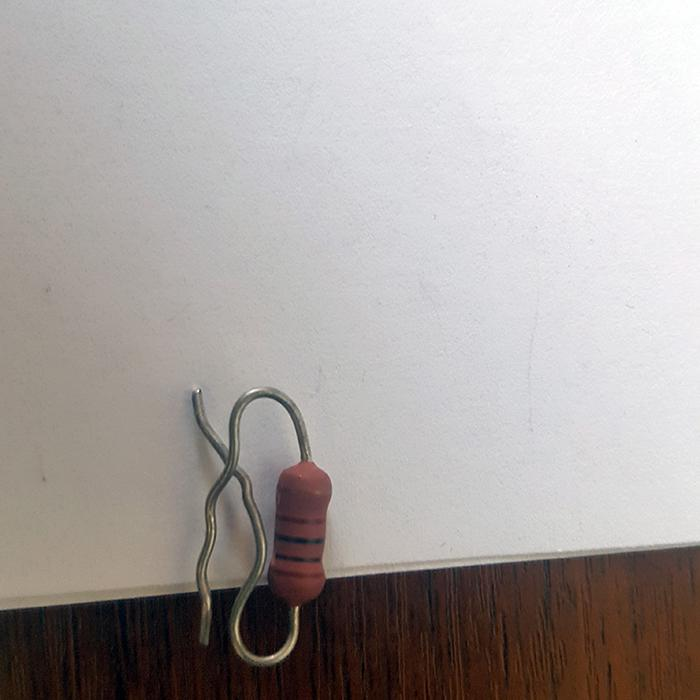resistor: (267, 460, 333, 607)
